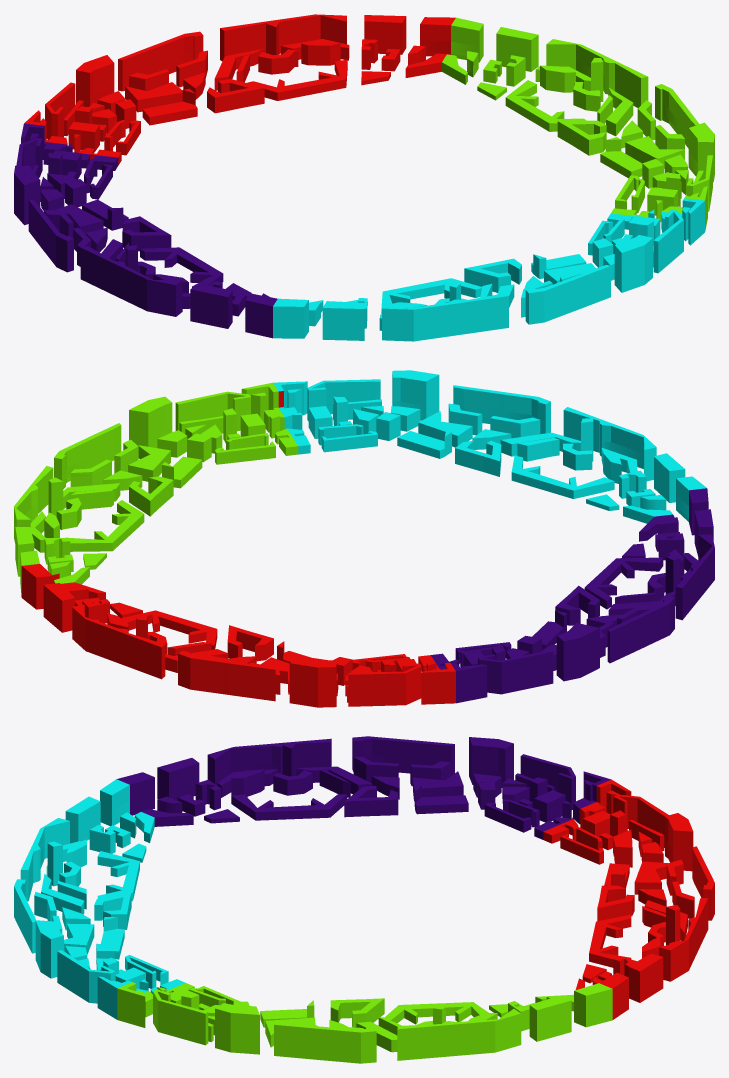
The model's file is Top_Floor_Detached.fbx.
The picture shows the model from 3 angles, top to bottom: view 1: azimuth 30°, elevation 25°; view 2: azimuth 150°, elevation 25°; view 3: azimuth 270°, elevation 25°; orthographic projection.
Parts seen in each view (by area): view 1: Building_Top58, Building_Top20, Building_Top92, Building_Top60, Building_Top128, Building_Top21, Building_Top95, Building_Top93, Building_Top55, Building_Top23, Building_Top59, Building_Top22 (+43 smaller); view 2: Building_Top95, Building_Top92, Building_Top82, Building_Top60, Building_Top58, Building_Top23, Building_Top10, Building_Top06, Building_Top89, Building_Top130, Building_Top17, Building_Top55 (+48 smaller); view 3: Building_Top128, Building_Top130, Building_Top20, Building_Top23, Building_Top93, Building_Top21, Building_Top125, Building_Top118, Building_Top44, Building_Top92, Building_Top34, Building_Top17 (+47 smaller).
Boxes of the visible parts, x1,y1,x2,y2 form: Building_Top58: (382, 293, 508, 341); Building_Top20: (80, 246, 182, 316); Building_Top92: (220, 14, 346, 61); Building_Top60: (525, 265, 610, 324); Building_Top128: (546, 39, 648, 107); Building_Top21: (245, 293, 308, 338); Building_Top95: (118, 31, 203, 91); Building_Top93: (420, 17, 483, 62); Building_Top55: (614, 235, 652, 292); Building_Top23: (28, 200, 73, 272); Building_Top59: (322, 301, 364, 340); Building_Top22: (190, 284, 232, 328); Building_Top95: (178, 650, 275, 701); Building_Top92: (72, 604, 165, 679); Building_Top82: (348, 663, 421, 706); Building_Top60: (453, 385, 550, 434); Building_Top58: (563, 407, 656, 481); Building_Top23: (607, 596, 674, 663); Building_Top10: (478, 649, 553, 694); Building_Top06: (421, 662, 487, 704); Building_Top89: (289, 656, 336, 707); Building_Top130: (54, 423, 121, 488); Building_Top17: (556, 625, 599, 681); Building_Top55: (392, 370, 439, 420); Building_Top128: (397, 1009, 521, 1060); Building_Top130: (274, 1023, 376, 1063); Building_Top20: (207, 738, 331, 785); Building_Top23: (352, 736, 454, 775); Building_Top93: (574, 972, 628, 1027); Building_Top21: (100, 772, 154, 826); Building_Top125: (215, 1003, 259, 1054); Building_Top118: (153, 989, 208, 1045); Building_Top44: (97, 976, 152, 1027); Building_Top92: (659, 898, 708, 981); Building_Top34: (231, 794, 347, 820); Building_Top17: (469, 737, 513, 787).
Bounding box in the file's own units: 479 × 29.85 × 479.
